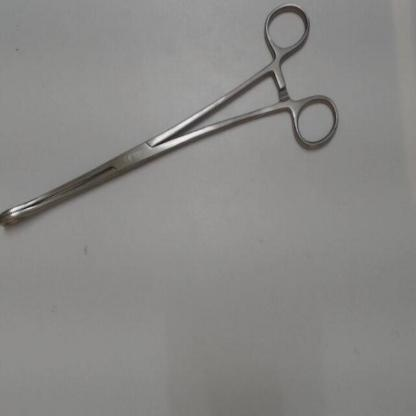Sponge Forceps: (0, 0, 348, 241)
